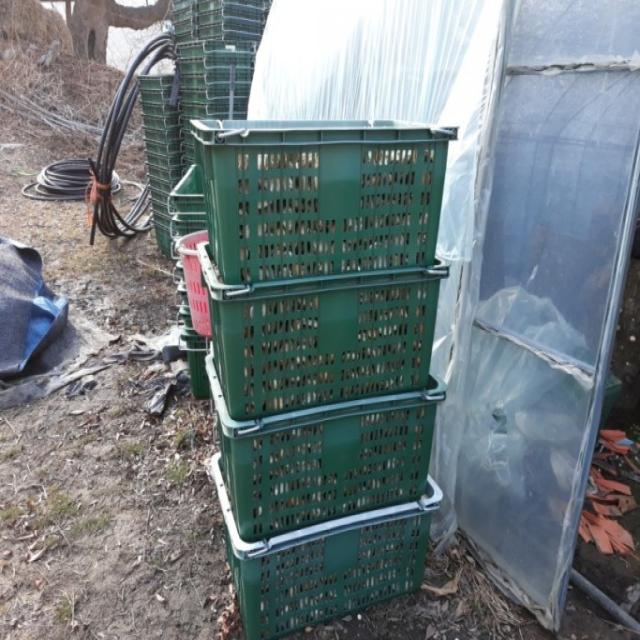basket: (186, 353, 448, 563), (187, 245, 449, 435), (195, 456, 444, 640), (192, 120, 458, 284), (137, 72, 191, 258), (175, 232, 212, 339), (165, 163, 208, 237), (189, 349, 209, 399)
